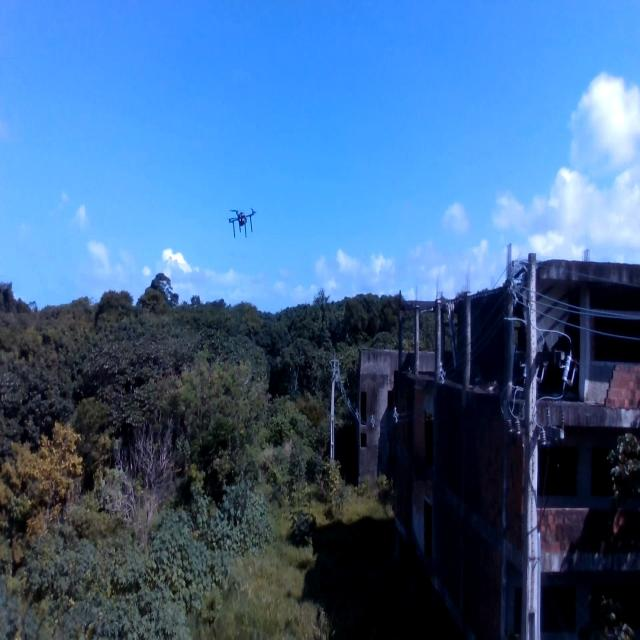-uav-: (222, 197, 262, 258)
